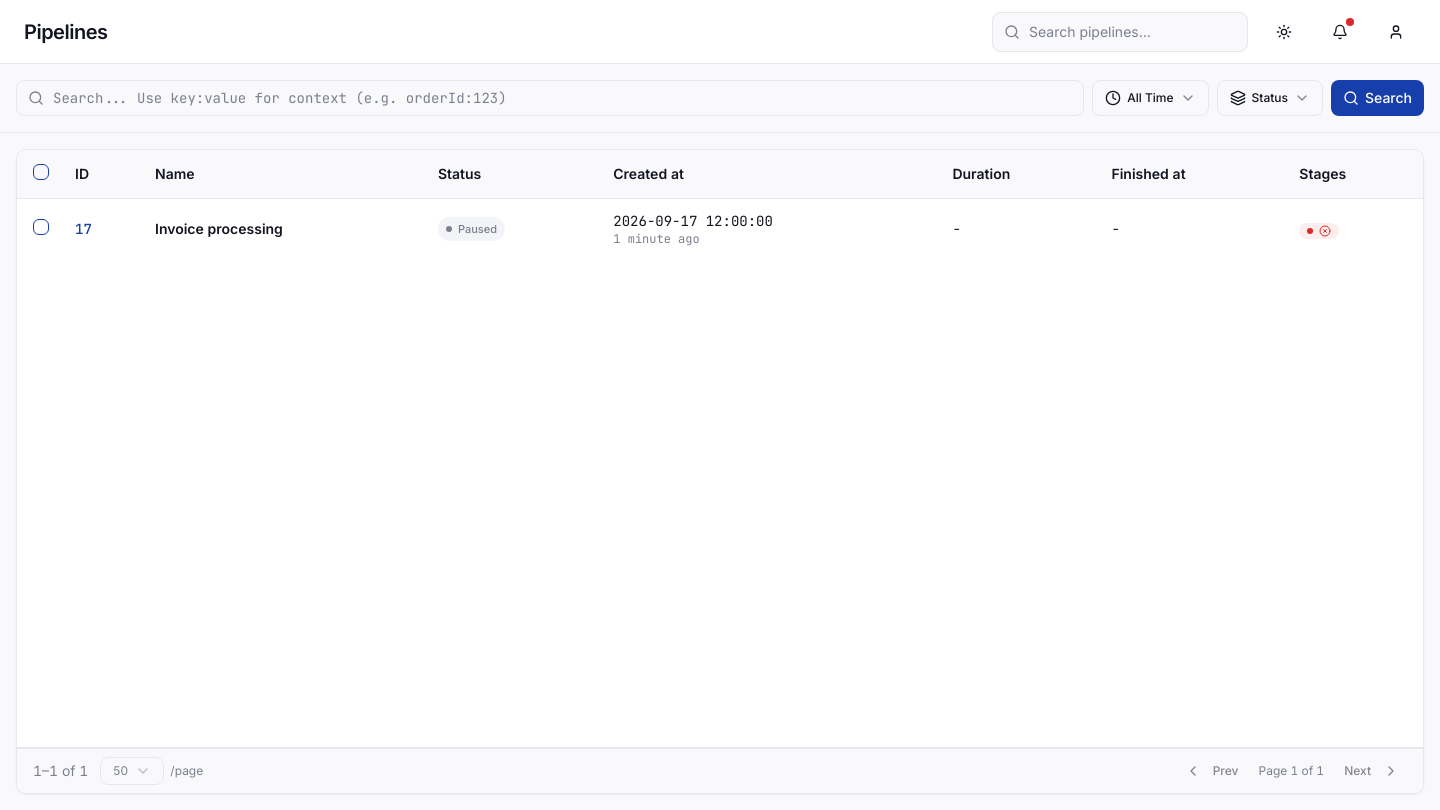
Test: pipeline operation access › allows operator bulk actions and hides previously selected actions after access is revoked
The image size is (1440, 810).
Click the checkbox named "Select pipeline 17": (41, 226) [33,218,49,234]
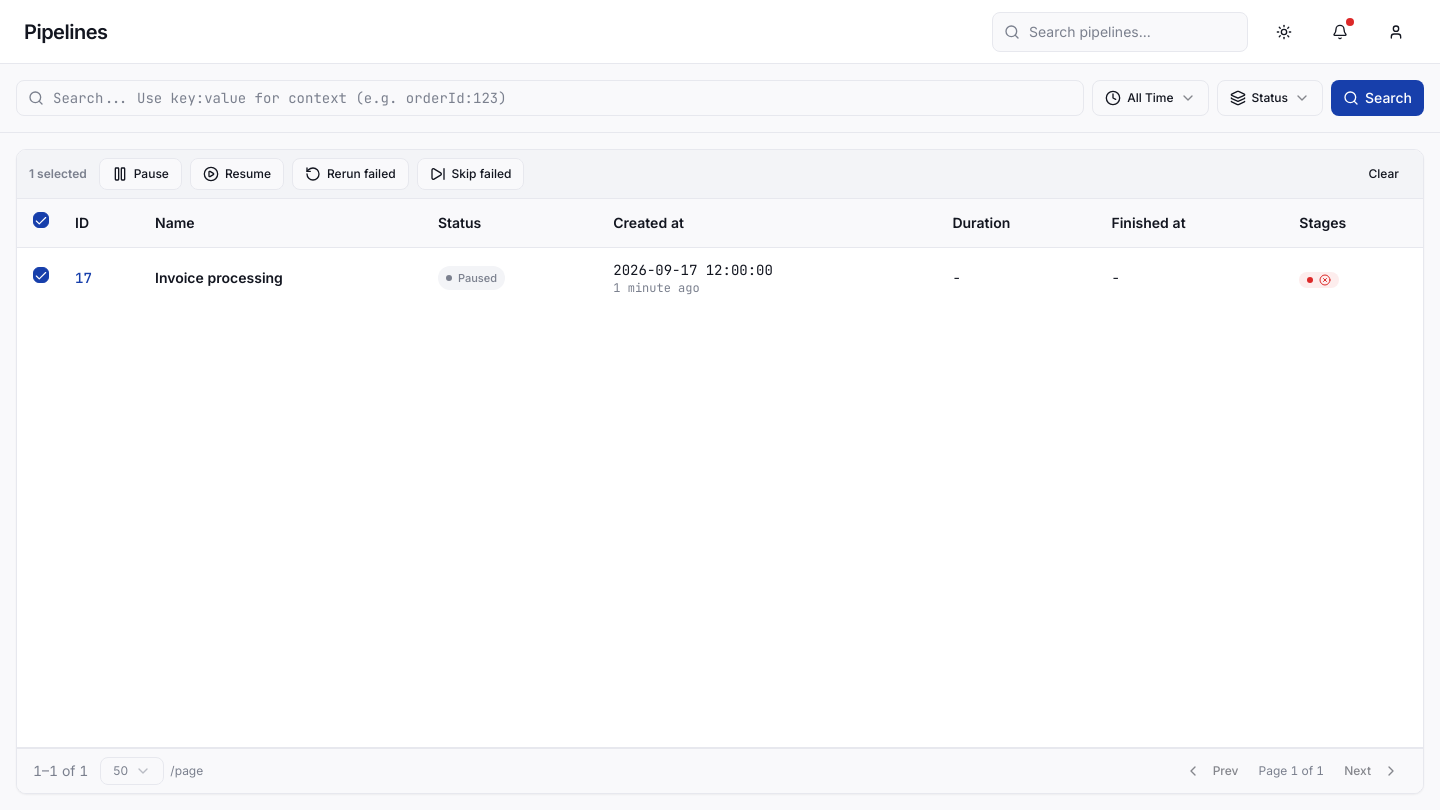
Click the button "Pause": (140, 174) [99,158,182,190]
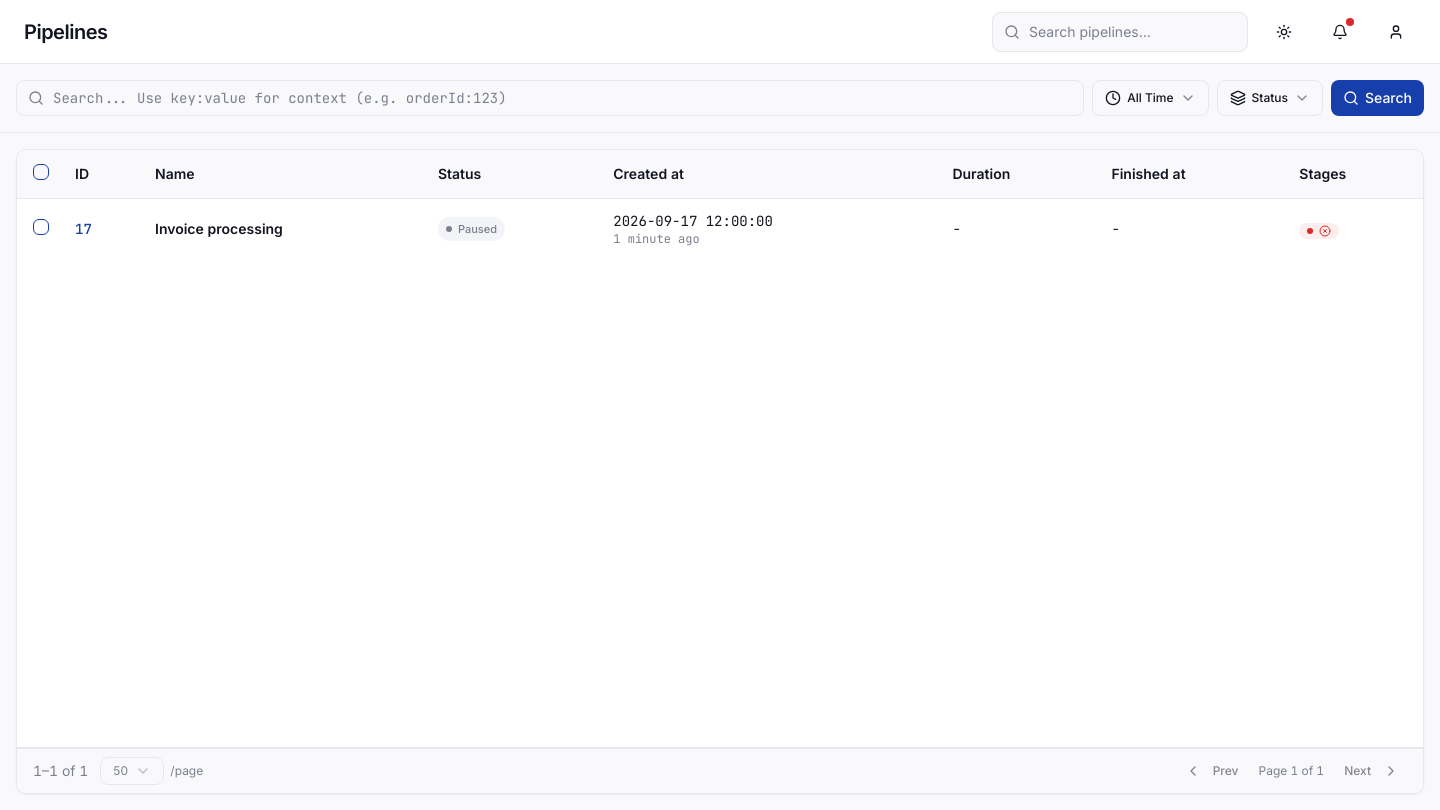
Click the checkbox named "Select pipeline 17": (41, 226) [33,218,49,234]
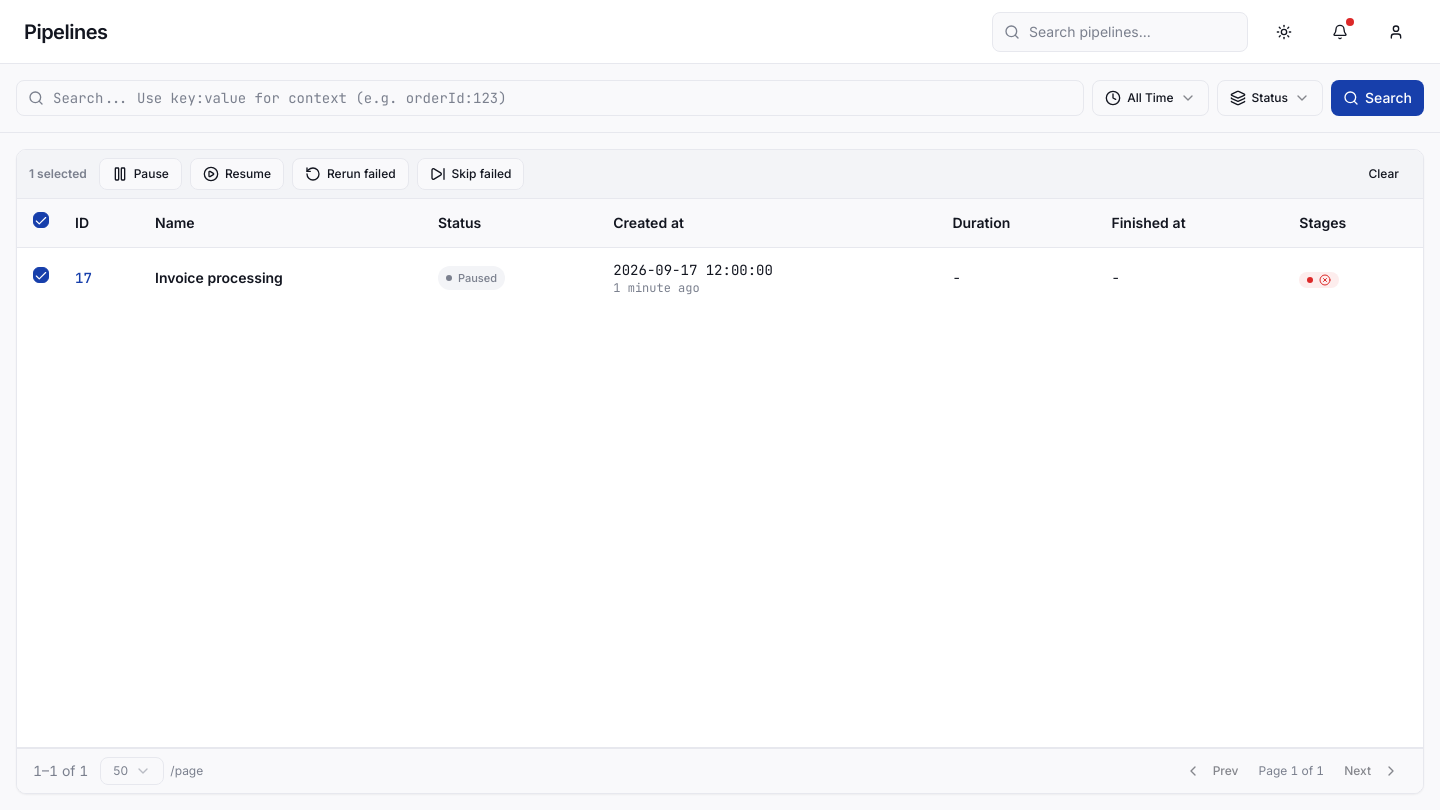
expect the button "Pause" is shown: met, box [99,158,182,190]
